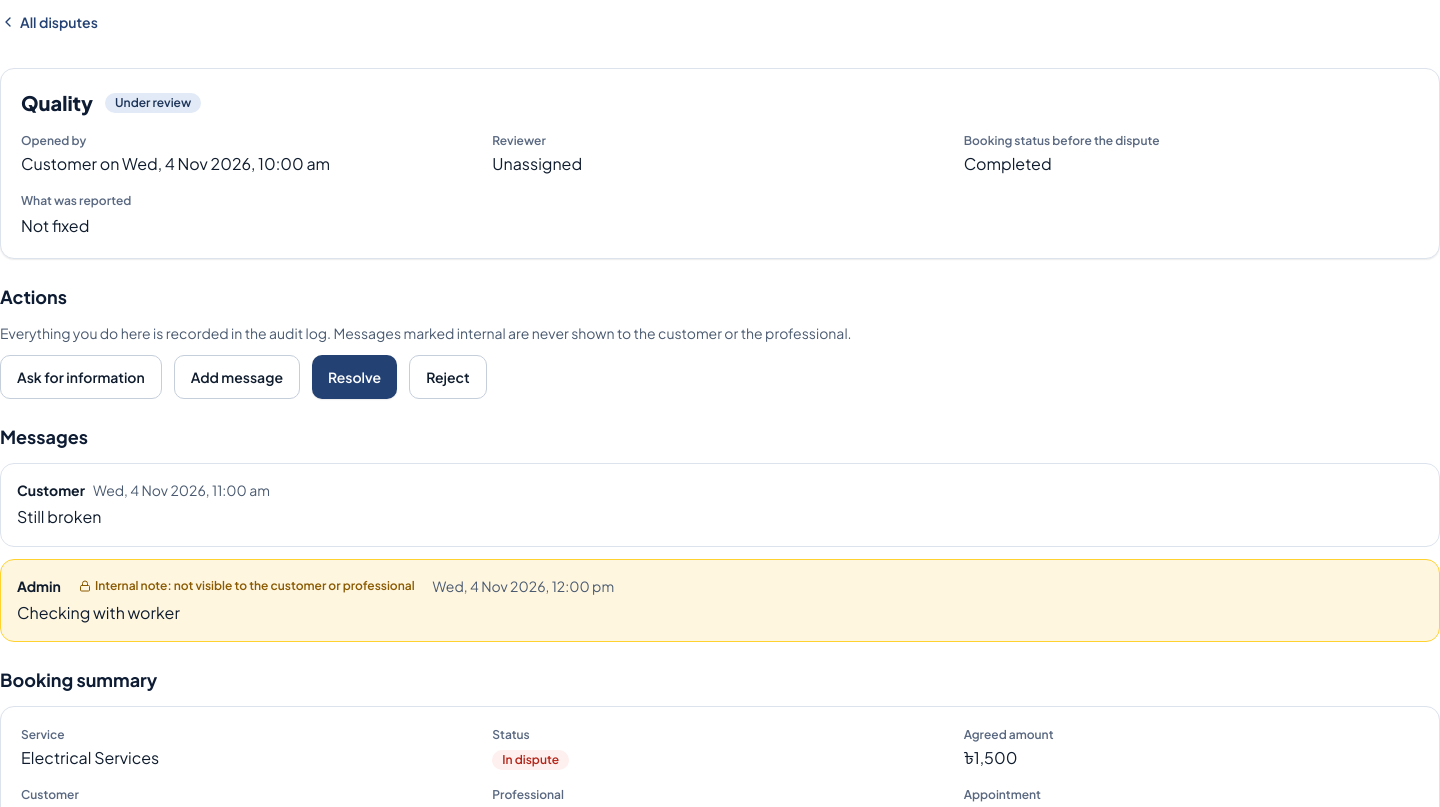
admin disputes › keeps the confirmation open and shows the server message when resolving fails
The image size is (1440, 807).
Step 1. Click the button "Reject" → (448,377), box [409,355,487,399]
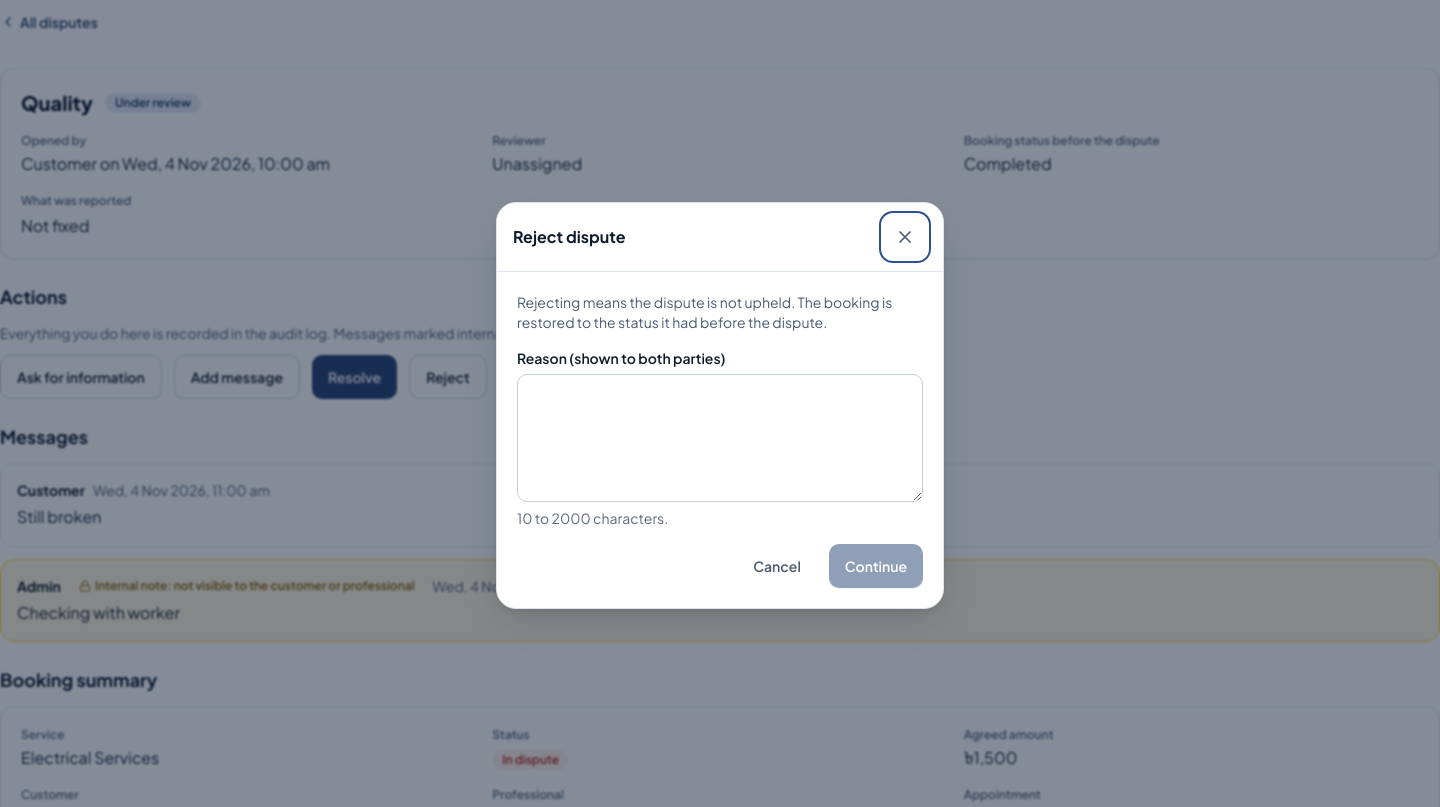
Step 2. Type "Not enough evidence." into the text box labelled "Reason (shown to both parties)" → (720,438), box [517,374,923,502]
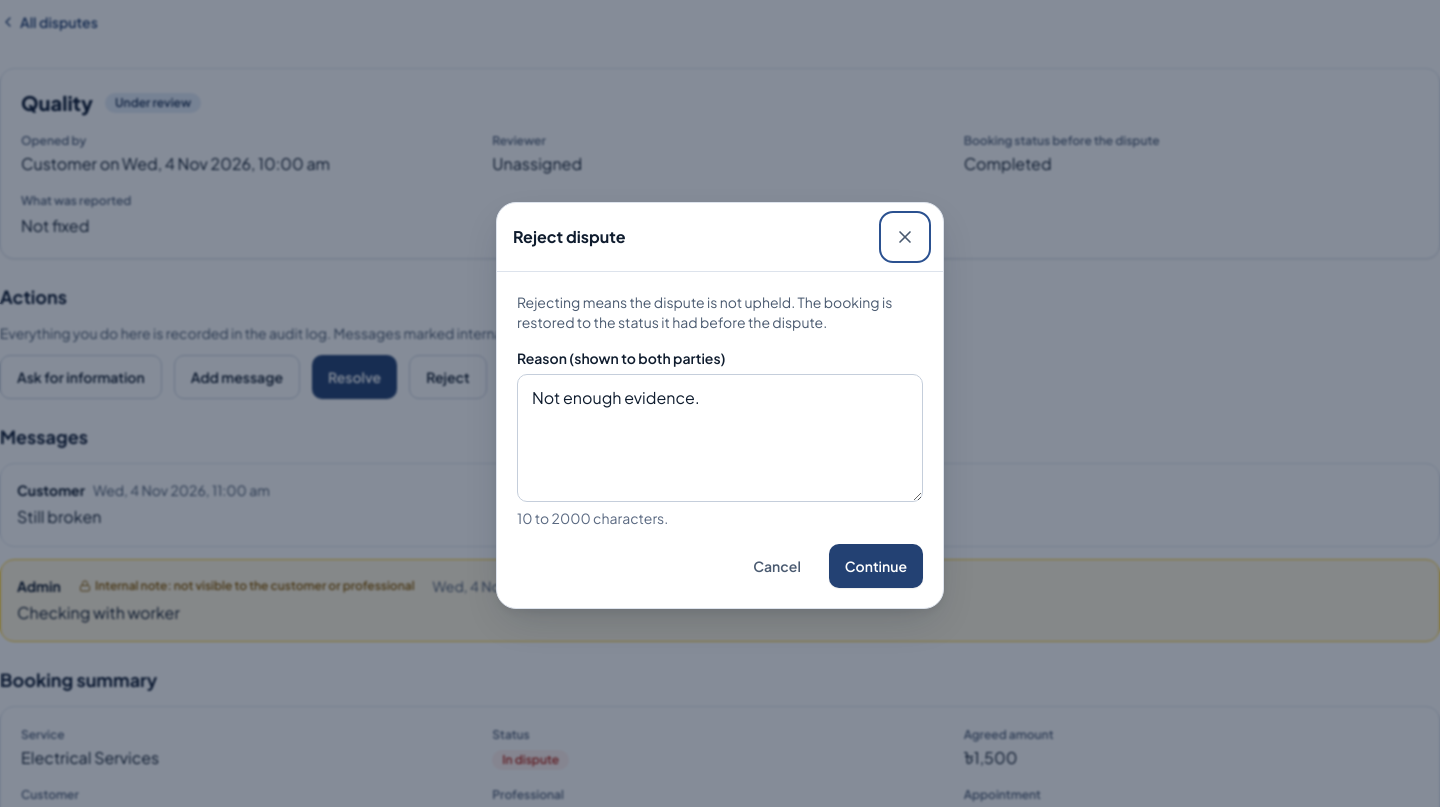
Step 3. Click the button "Continue" → (876,566), box [829,544,923,588]
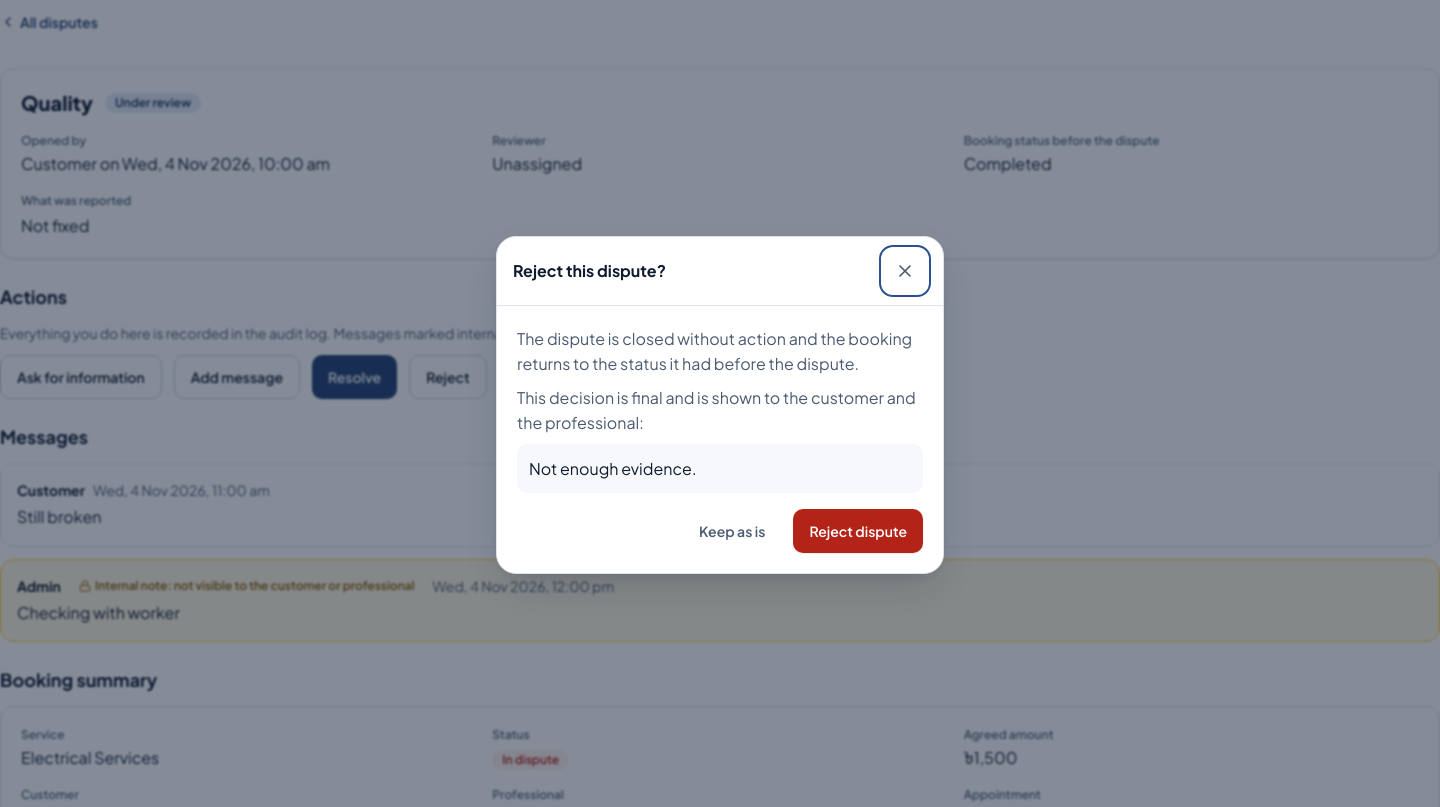
Step 4. Click the button "Reject dispute" → (858,532), box [793,510,923,554]
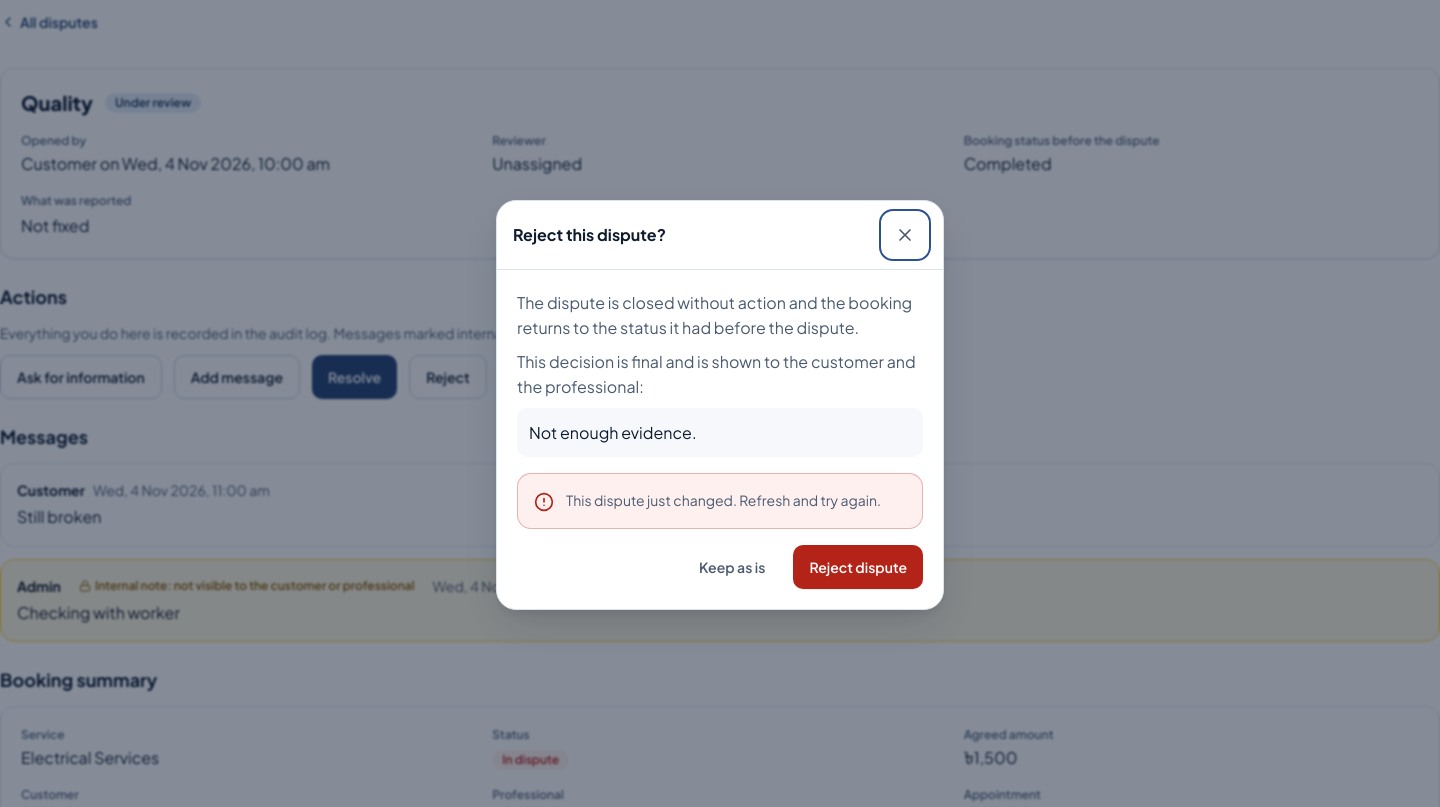
Check: the text "This dispute just changed. Refresh and try again." is shown, box [566,490,881,510]
